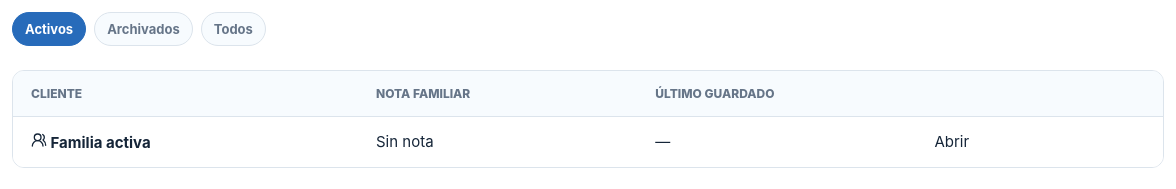
Test: ClientList › keeps archived clients available through an explicit archive filter
Expected: the text "Familia activa" is shown, [31,132,151,152]
Expected: the text "Familia archivada" is not shown
Click the button "Archivados": (144, 29) [94,12,193,46]
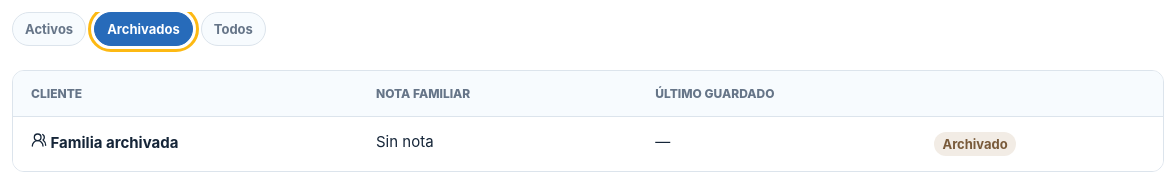
Expected: the text "Familia archivada" is shown, [31,132,178,152]
Expected: the text "Archivado" is shown, [934,132,1016,156]
